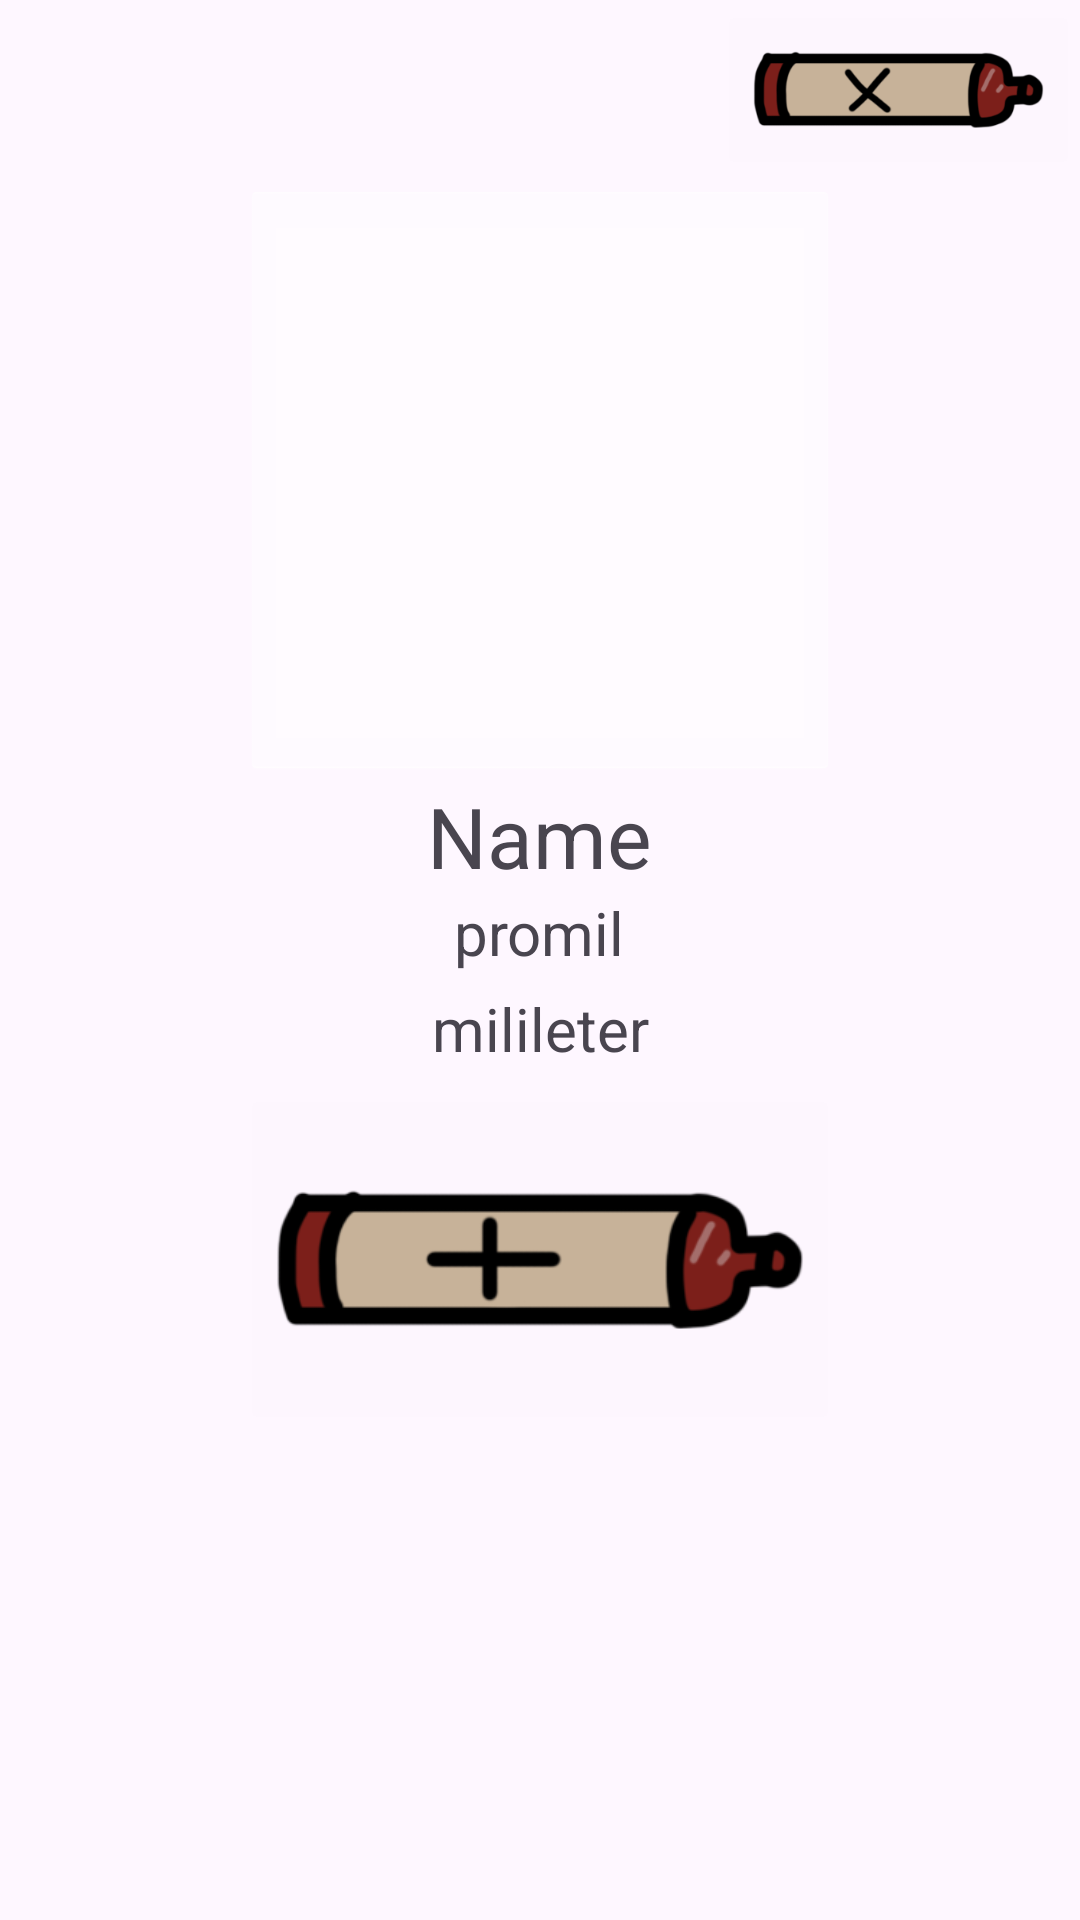

Icons on this 1080px x 1920px Android screen, each with the point to tap as point (x, y):
buttonx: point (898, 90)
